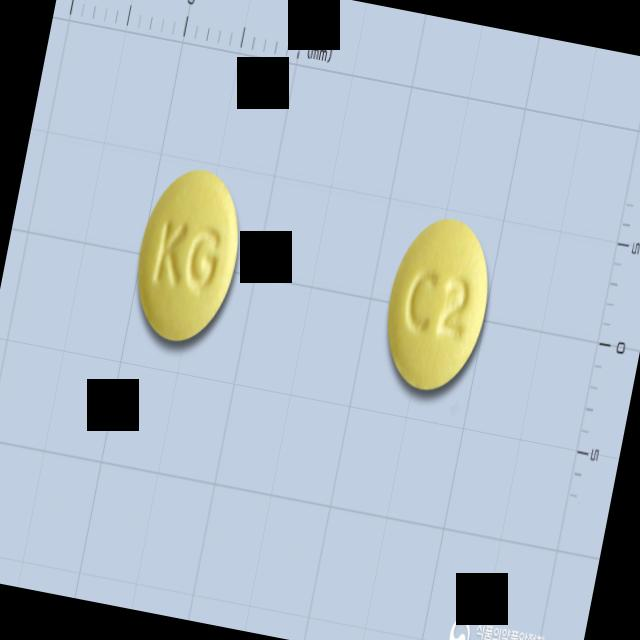Globit: (372, 208, 504, 404), (124, 160, 254, 352)
